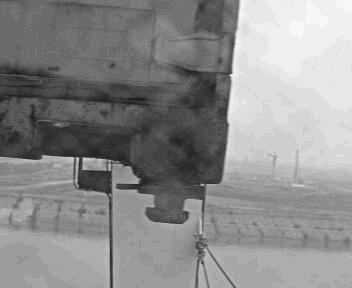twist_lock_1: (127, 174, 211, 227)
